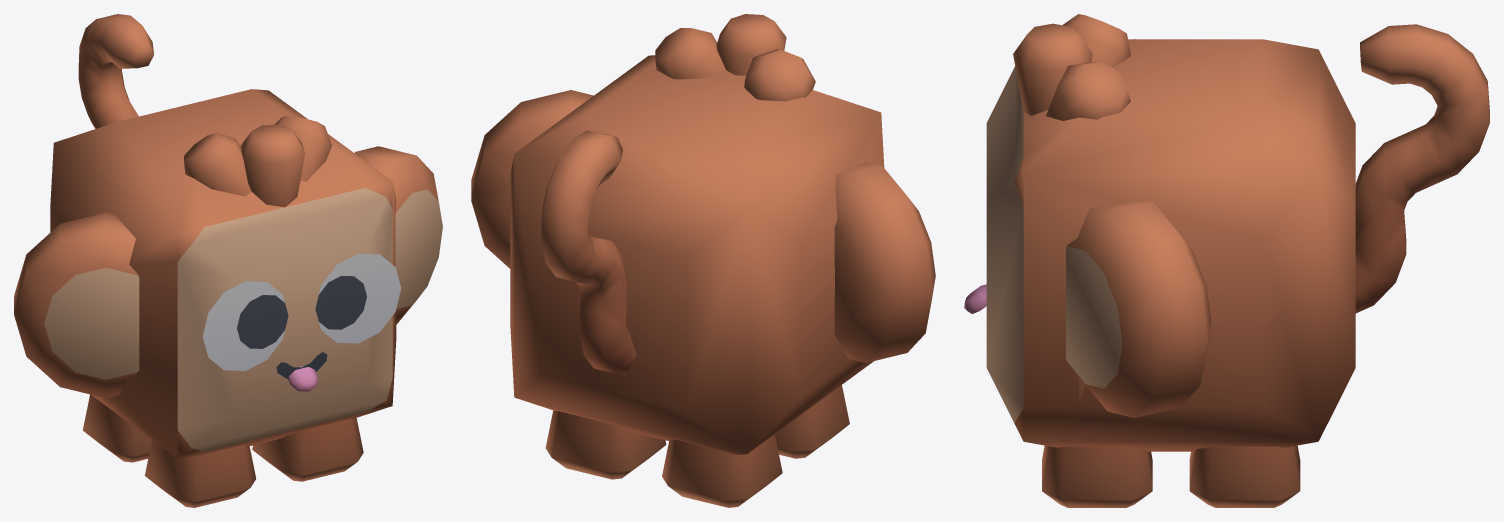
Rendered from monkey.glb.
The picture shows the model from 3 angles, left to right: view 1: azimuth 30°, elevation 25°; view 2: azimuth 150°, elevation 25°; view 3: azimuth 270°, elevation 25°; orthographic projection. The views are drawn at different scales.
Parts seen in each view (by area): view 1: body, tail, leg-front-right, leg-front-left, leg-back-right; view 2: body, tail, leg-back-right, leg-back-left, leg-front-right; view 3: body, tail, leg-back-left, leg-front-left.
Boxes of the visible parts, <box> form: body: <box>14,89,442,458</box>; tail: <box>78,14,153,128</box>; leg-front-right: <box>144,440,256,507</box>; leg-front-left: <box>252,418,363,481</box>; leg-back-right: <box>82,394,151,462</box>; body: <box>471,14,935,454</box>; tail: <box>541,130,636,375</box>; leg-back-right: <box>662,434,782,507</box>; leg-back-left: <box>545,410,666,479</box>; leg-front-right: <box>775,385,849,458</box>; body: <box>964,14,1355,451</box>; tail: <box>1355,24,1489,313</box>; leg-back-left: <box>1189,445,1300,507</box>; leg-front-left: <box>1042,445,1152,507</box>.
Bounding box in the file's own units: 1.98 × 1.61 × 1.78.
